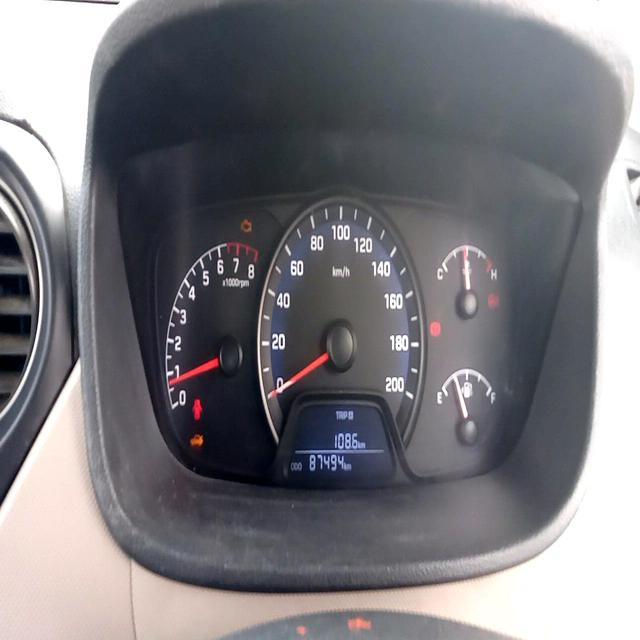odometer: (306, 449, 344, 479)
